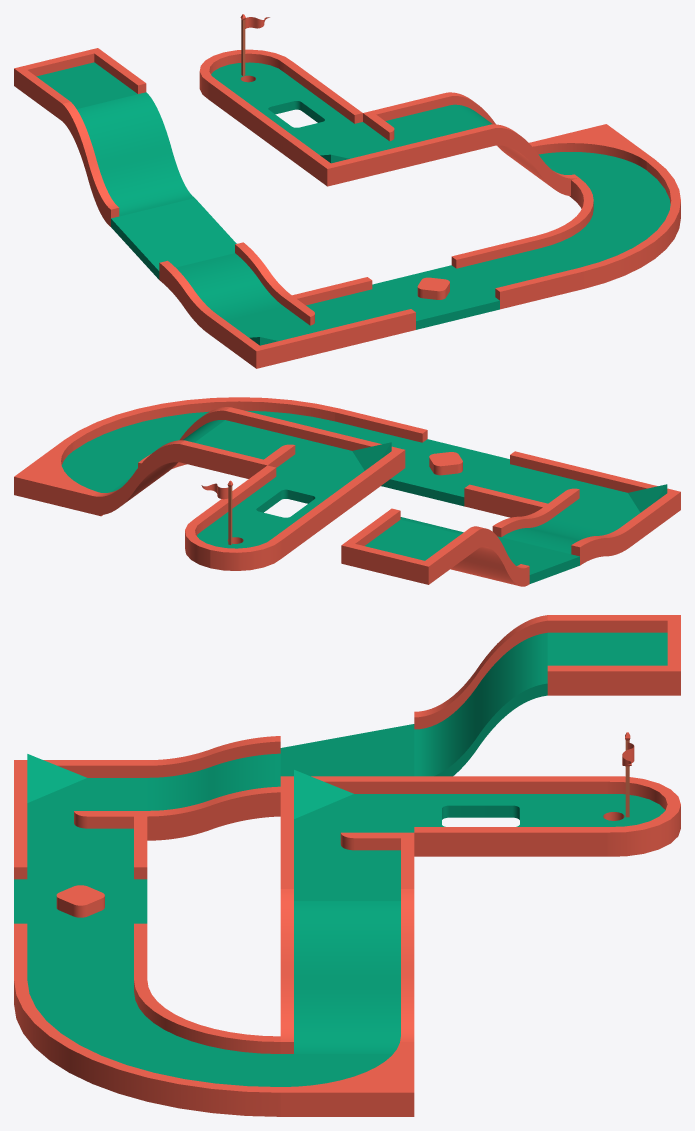
Rendered from Level14.fbx.
3 views of the same model, one above another, from view 1: azimuth 30°, elevation 25°; view 2: azimuth 150°, elevation 25°; view 3: azimuth 270°, elevation 25° (orthographic). The views are drawn at different scales.
Parts seen in each view (by area): view 1: straight_gap (×2), bend_large, slope_side_smoothD, corner_hill (×2), slope_smoothA, slope_center_straightA, straight, end, open_obstacle, end_roundHole, straight_hole, bend_full (+1 smaller); view 2: straight_gap (×2), corner_hill (×2), bend_large, end, end_roundHole, bend_full, straight_hole, open_obstacle, slope_smoothA, slope_smoothD, slope_side_smoothD, straight (+2 smaller); view 3: bend_large, slope_smoothD, straight_gap (×2), corner_hill (×2), slope_smoothA, end, slope_side_smoothD, straight_hole, end_roundHole, bend_full, straight, open_obstacle (+1 smaller).
Part boxes in pixels (bbox=[...]): straight_gap (×2): bbox=[283, 92, 495, 350]; bend_large: bbox=[536, 159, 680, 288]; slope_side_smoothD: bbox=[62, 92, 194, 226]; corner_hill (×2): bbox=[208, 122, 411, 368]; slope_smoothA: bbox=[159, 242, 291, 332]; slope_center_straightA: bbox=[111, 198, 236, 279]; straight: bbox=[451, 236, 583, 309]; end: bbox=[14, 48, 146, 120]; open_obstacle: bbox=[372, 265, 499, 329]; end_roundHole: bbox=[199, 49, 313, 114]; straight_hole: bbox=[230, 77, 362, 150]; bend_full: bbox=[531, 124, 654, 196]; straight_gap (×2): bbox=[180, 407, 601, 518]; corner_hill (×2): bbox=[276, 428, 680, 546]; bend_large: bbox=[64, 397, 339, 468]; end: bbox=[341, 508, 479, 584]; end_roundHole: bbox=[185, 502, 304, 570]; bend_full: bbox=[14, 440, 137, 516]; straight_hole: bbox=[217, 465, 354, 541]; open_obstacle: bbox=[381, 439, 509, 506]; slope_smoothA: bbox=[492, 507, 630, 565]; slope_smoothD: bbox=[93, 407, 229, 514]; slope_side_smoothD: bbox=[400, 517, 529, 586]; straight: bbox=[324, 408, 427, 454]; bend_large: bbox=[14, 980, 280, 1116]; slope_smoothD: bbox=[280, 889, 414, 1053]; straight_gap (×2): bbox=[14, 811, 414, 900]; corner_hill (×2): bbox=[14, 754, 414, 844]; slope_smoothA: bbox=[147, 736, 280, 840]; end: bbox=[547, 615, 680, 695]; slope_side_smoothD: bbox=[414, 615, 547, 776]; straight_hole: bbox=[414, 776, 547, 856]; end_roundHole: bbox=[547, 776, 680, 856]; bend_full: bbox=[280, 1037, 414, 1116]; straight: bbox=[14, 923, 147, 991]; open_obstacle: bbox=[14, 879, 147, 935].
Size of the model in its own units: 59 by 15.92 by 50.
